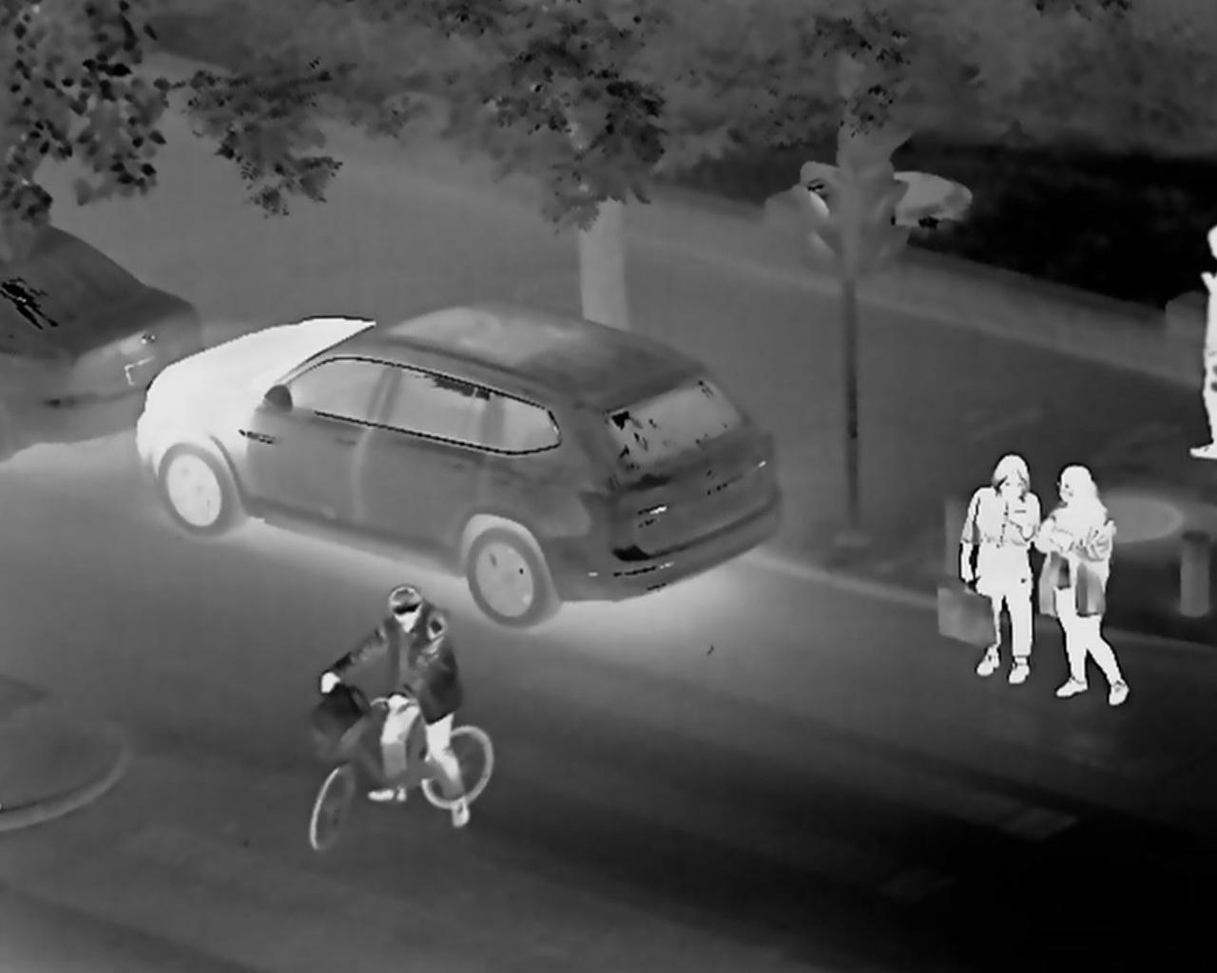person: (319, 565, 481, 844), (917, 450, 1039, 696), (1049, 459, 1126, 747)
